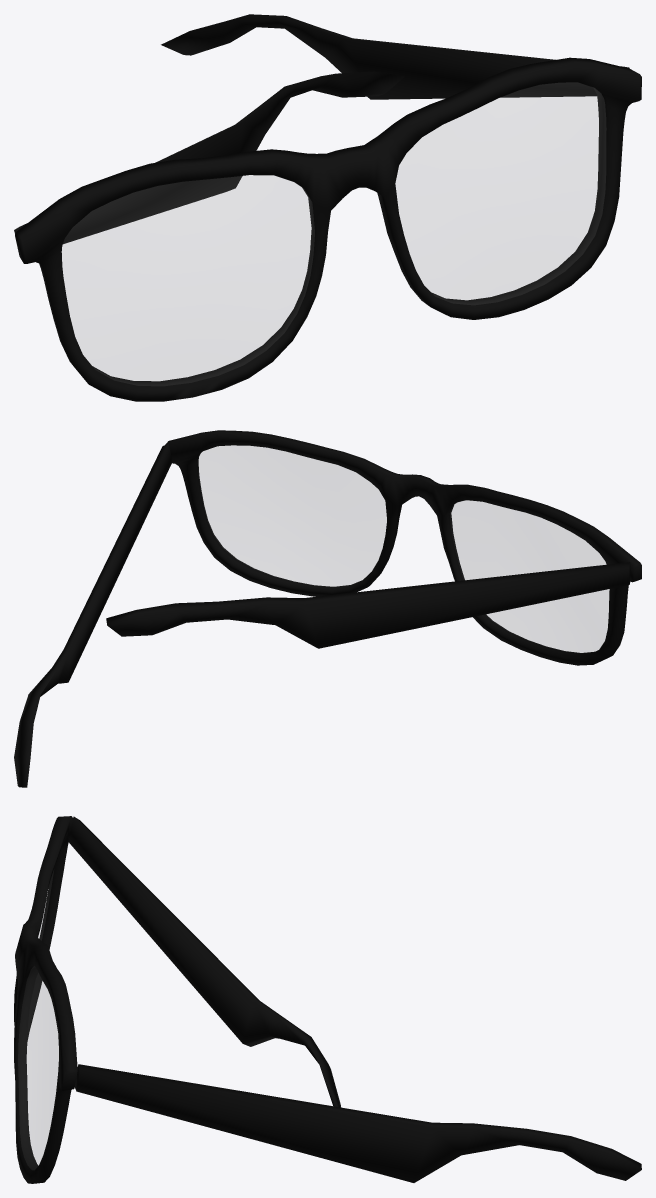
File: Eyewear.FBX
3 views of the same model, one above another, from view 1: azimuth 30°, elevation 25°; view 2: azimuth 150°, elevation 25°; view 3: azimuth 270°, elevation 25° (orthographic). The views are drawn at different scales.
Parts seen in each view (by area): view 1: Eyewear; view 2: Eyewear; view 3: Eyewear.
Part boxes in pixels (x1=…): Eyewear: x1=14, y1=14, x2=641, y2=401; Eyewear: x1=14, y1=430, x2=641, y2=787; Eyewear: x1=14, y1=816, x2=641, y2=1183.
Bounding box in the file's own units: 6.63 × 2.28 × 6.67.
2 materials, 1 textured.
